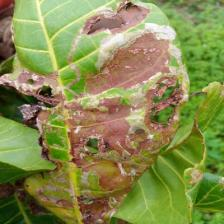leaf miner: (0, 0, 191, 223)
